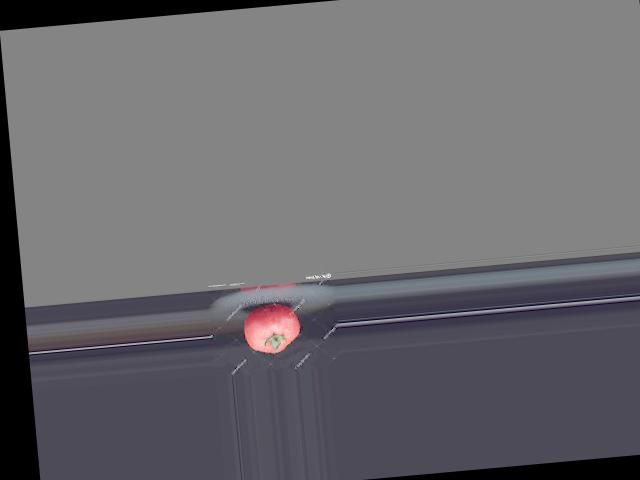tomato: (241, 302, 302, 356)
